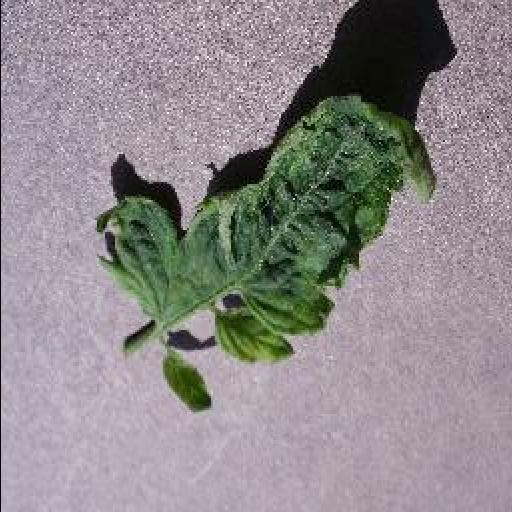disease_tomato: (95, 88, 441, 414)
